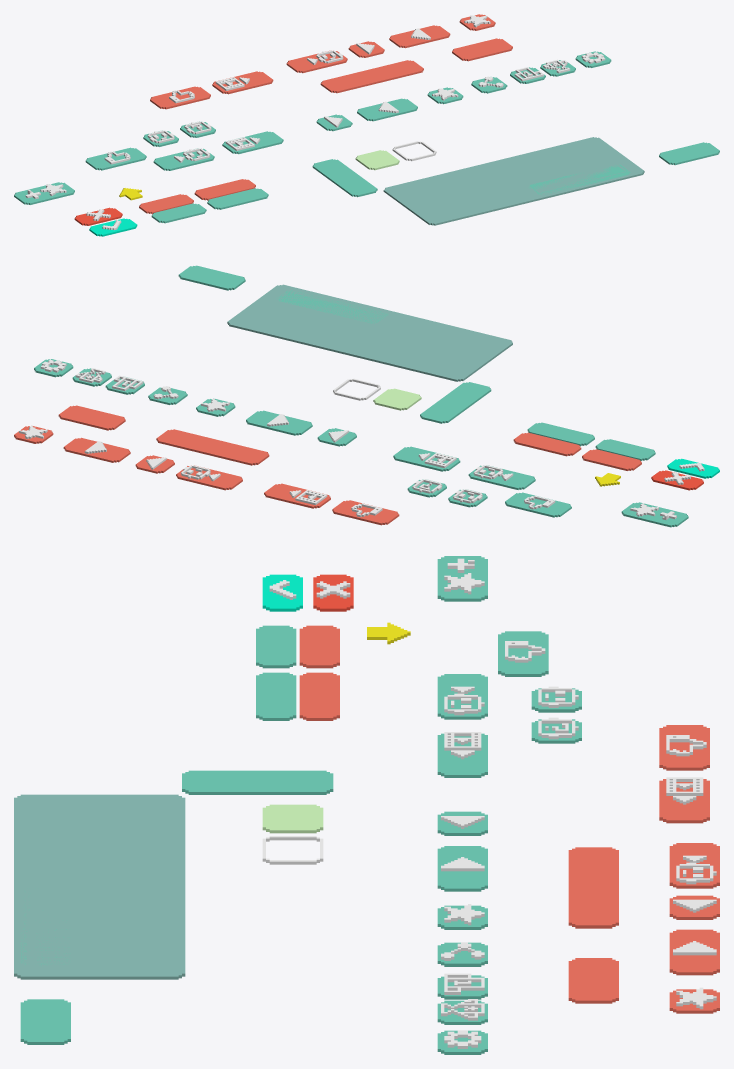
Rendered from UI_elements.dae.
The picture shows the model from 3 angles, top to bottom: view 1: azimuth 30°, elevation 25°; view 2: azimuth 150°, elevation 25°; view 3: azimuth 270°, elevation 25°; orthographic projection. The views are drawn at different scales.
Parts seen in each view (by area): view 1: object_detail_background, button_blank_red_leftright_longer_1, button_blank_topbottom, button_blank_leftright_longer, button_randomCharacterGet, button_red_randomCharacterGet_1, button_red_rating_1, button_select, button_red_select_1, button_plusstar, button_rating, button_blank_red_leftright_1 (+20 smaller); view 2: object_detail_background, button_blank_red_leftright_longer_1, button_blank_topbottom, button_blank_leftright_longer, button_red_select_1, button_select, button_red_rating_1, button_ad_bonus, button_randomCharacterGet, button_blank_leftright, button_blank_red_leftright_1, button_red_ad_bonus_1 (+20 smaller); view 3: object_detail_background, button_blank_red_leftright_longer_1, button_blank_topbottom, button_red_ad_bonus_1, button_red_select_1, button_rating, button_randomCharacterGet, button_select, button_blank_leftright, button_blank_red_leftright_1, button_red_randomCharacterGet_1, button_ad_bonus (+19 smaller).
Part boxes in pixels (x1,y1,x2,y2): object_detail_background: (383,137,644,225); button_blank_red_leftright_longer_1: (320,60,423,93); button_blank_topbottom: (312,159,377,197); button_blank_leftright_longer: (528,164,630,194); button_randomCharacterGet: (153,148,214,170); button_red_randomCharacterGet_1: (286,50,347,73); button_red_rating_1: (150,86,210,109); button_select: (357,98,417,121); button_red_select_1: (389,25,450,48); button_plusstar: (14,182,74,204); button_rating: (85,147,146,170); button_blank_red_leftright_1: (452,38,512,61); object_detail_background: (227,284,512,381); button_blank_red_leftright_longer_1: (156,429,269,465); button_blank_topbottom: (420,382,491,423); button_blank_leftright_longer: (276,289,388,323); button_red_select_1: (63,437,130,462); button_select: (246,410,312,435); button_red_rating_1: (332,500,399,525); button_ad_bonus: (393,446,460,471); button_randomCharacterGet: (468,465,535,489); button_blank_leftright: (178,265,245,290); button_blank_red_leftright_1: (58,405,125,430); button_red_ad_bonus_1: (264,483,330,508); object_detail_background: (14,794,185,979); button_blank_red_leftright_longer_1: (568,847,618,928); button_blank_topbottom: (182,770,333,794); button_red_ad_bonus_1: (659,777,709,823); button_red_select_1: (669,929,719,975); button_rating: (498,631,548,676); button_randomCharacterGet: (437,674,487,719); button_select: (437,846,487,891); button_blank_leftright: (20,999,70,1044); button_blank_red_leftright_1: (568,958,618,1003); button_red_randomCharacterGet_1: (669,843,719,888); button_ad_bonus: (437,732,487,777).
Bounding box in the file's own units: 349 × 3 × 210.
1 material, 1 textured.
